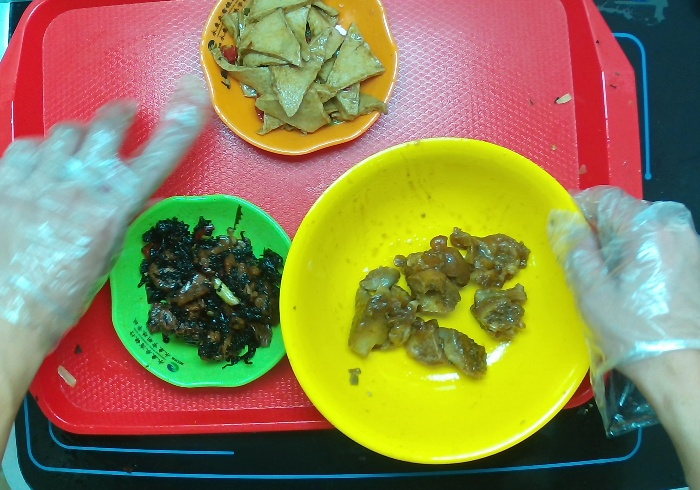YKMZ-Huang_Se_Tang_Wan: (279, 135, 604, 468)
YKMZ-Ju_Se_Ao_Bian_Wan: (200, 3, 401, 157)
YKMZ-Lv_Se_Ao_Bian_Wan: (106, 190, 292, 389)
